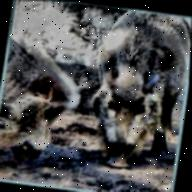boar: (70, 2, 192, 177), (0, 17, 85, 167)
